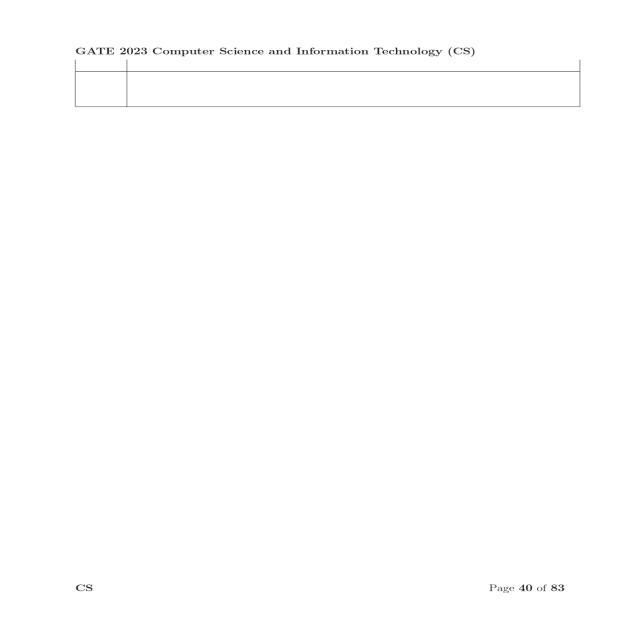Question_Paper_Area: (41, 28, 614, 575)
